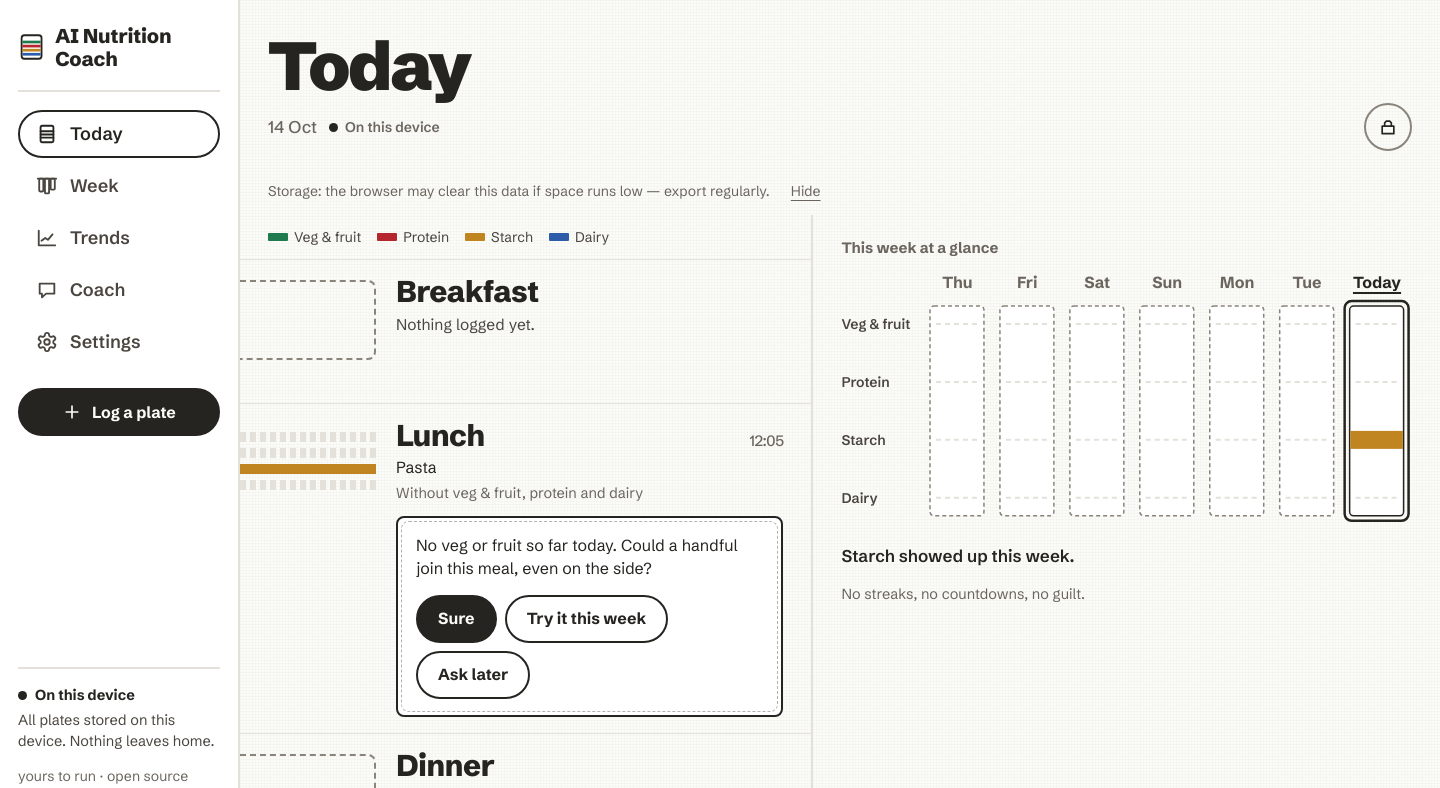
it: Try it this week › accepts the step under the note, keeps it, and shows it quietly on Today
What coordinates should you click on to do the following:
click the button "Try it this week"
I would click on:
 (586, 619)
Its box is [505,595,668,643].
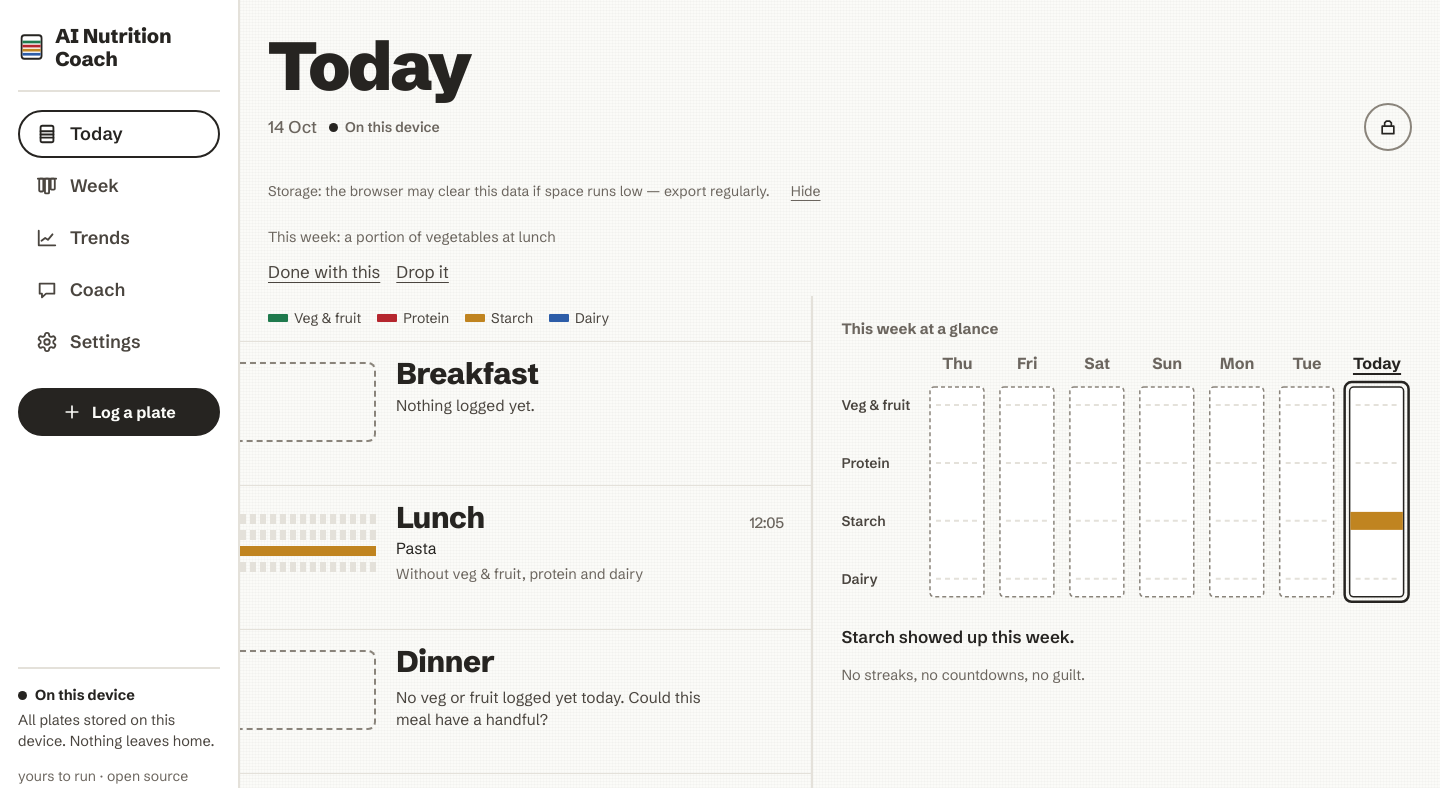
Now the text "This week: a portion of vegetables at lunch" is shown, box [268,227,556,248]
Now the button "Done with this" is shown, box [268,248,380,296]
Now the button "Drop it" is shown, box [396,248,449,296]
